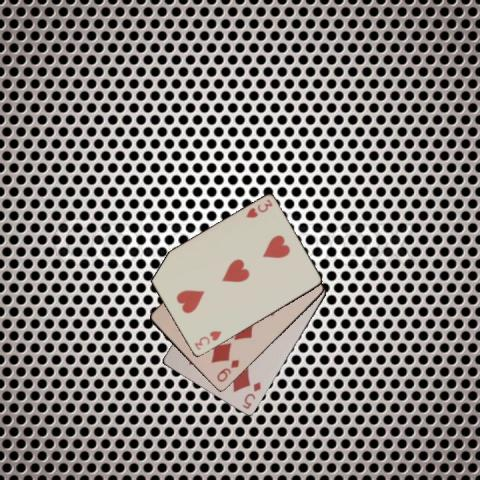3h: (191, 328, 223, 351), (243, 197, 274, 219)
5d: (239, 378, 263, 410)
9d: (214, 357, 241, 384)
